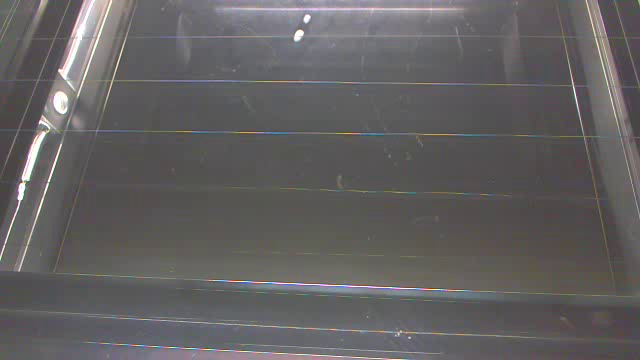alpha: (294, 13, 313, 43)
